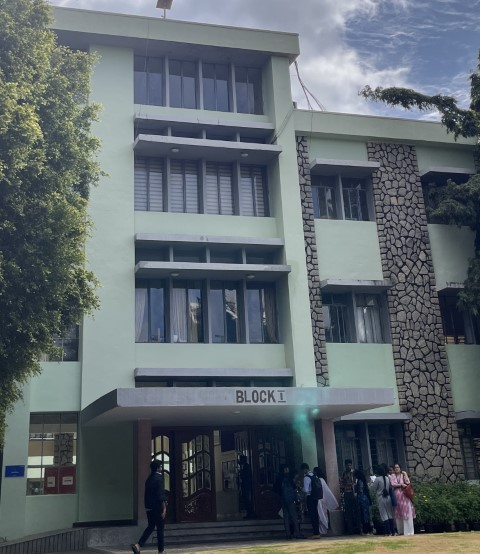Block 1: (74, 7, 472, 501)
